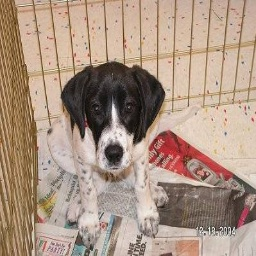dog: (42, 64, 176, 244)
